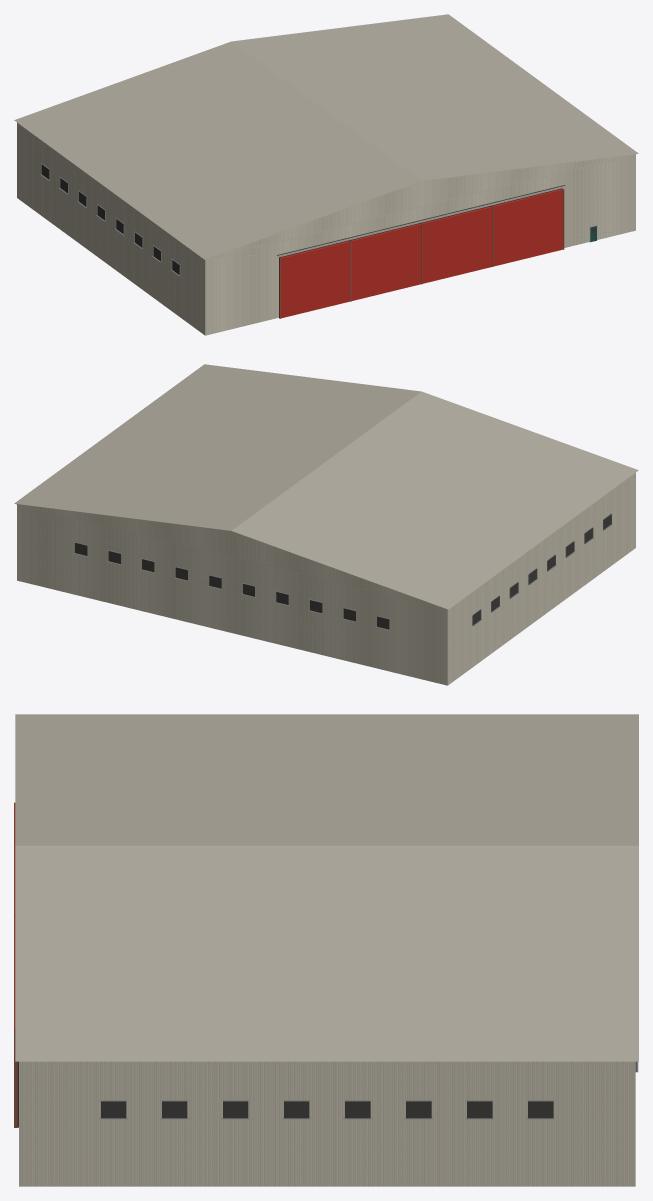
The model's file is cyxd_north_bay3_lod1.gltf.
3 views of the same model, one above another, from view 1: azimuth 30°, elevation 25°; view 2: azimuth 150°, elevation 25°; view 3: azimuth 270°, elevation 25° (orthographic). The views are drawn at different scales.
Parts seen in each view (by area): view 1: cyxd_north_bay3; view 2: cyxd_north_bay3; view 3: cyxd_north_bay3.
Part boxes in pixels (bbox=[...]): cyxd_north_bay3: bbox=[14, 14, 638, 335]; cyxd_north_bay3: bbox=[14, 364, 638, 685]; cyxd_north_bay3: bbox=[14, 714, 638, 1186].
Size of the model in its own units: 70.6 by 16 by 53.72.
